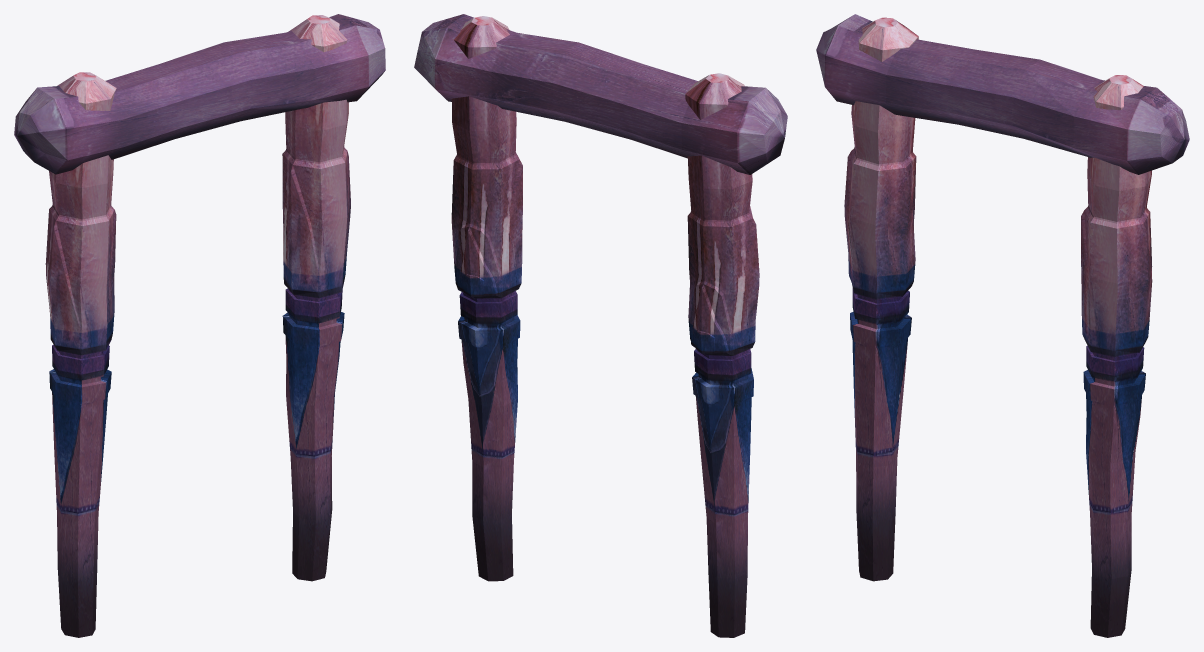
File: arch.gltf
3 renders of one model, left to right at view 1: azimuth 30°, elevation 25°; view 2: azimuth 150°, elevation 25°; view 3: azimuth 330°, elevation 25°, orthographic.
Visible parts, largest first — view 1: arch; view 2: arch; view 3: arch.
Boxes of the visible parts, x1,y1,x2,y2 form: arch: (14,14,385,637); arch: (414,14,787,637); arch: (816,14,1189,637).
Bounding box in the file's own units: 15.85 × 22.82 × 3.14.
2 materials, 2 textured.
